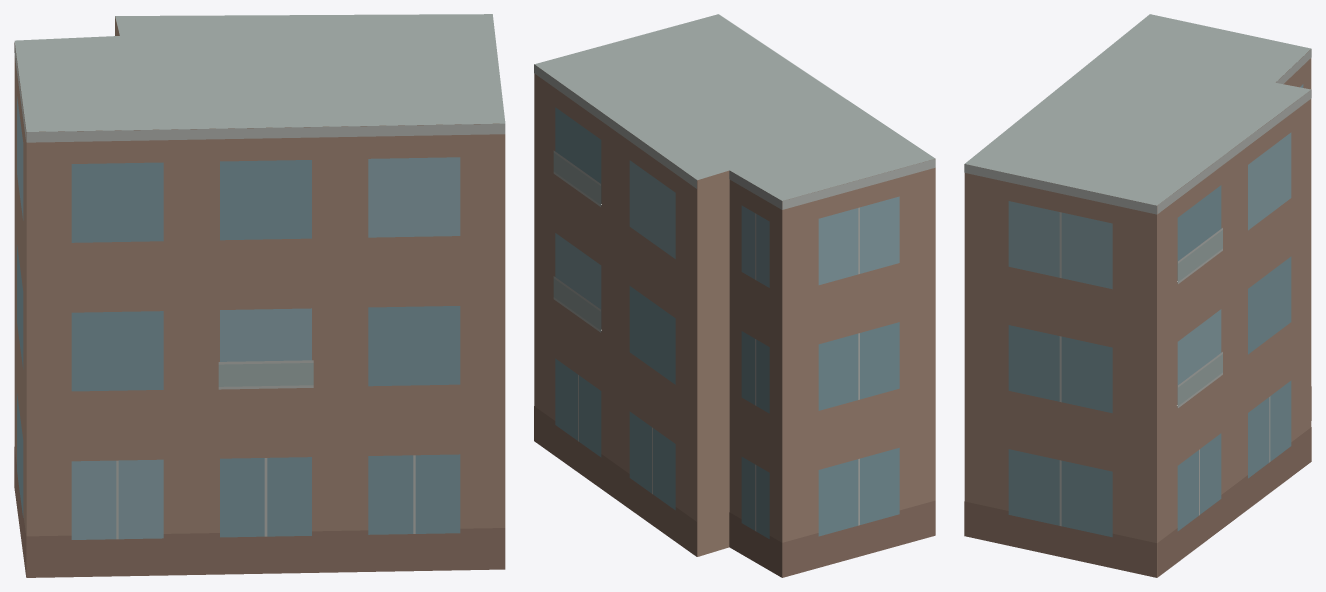
File: survey-upis-32511986.glb
The picture shows the model from 3 angles, left to right: view 1: azimuth 30°, elevation 25°; view 2: azimuth 150°, elevation 25°; view 3: azimuth 270°, elevation 25°; orthographic projection. The views are drawn at different scales.
Visible parts, largest first — view 1: survey-upis-32511986.tmp; view 2: survey-upis-32511986.tmp; view 3: survey-upis-32511986.tmp.
Part boxes in pixels (<box>): survey-upis-32511986.tmp: <box>14,14,505,577</box>; survey-upis-32511986.tmp: <box>534,14,935,577</box>; survey-upis-32511986.tmp: <box>964,14,1311,577</box>.
Bounding box in the file's own units: 11.28 × 10.2 × 8.63.
